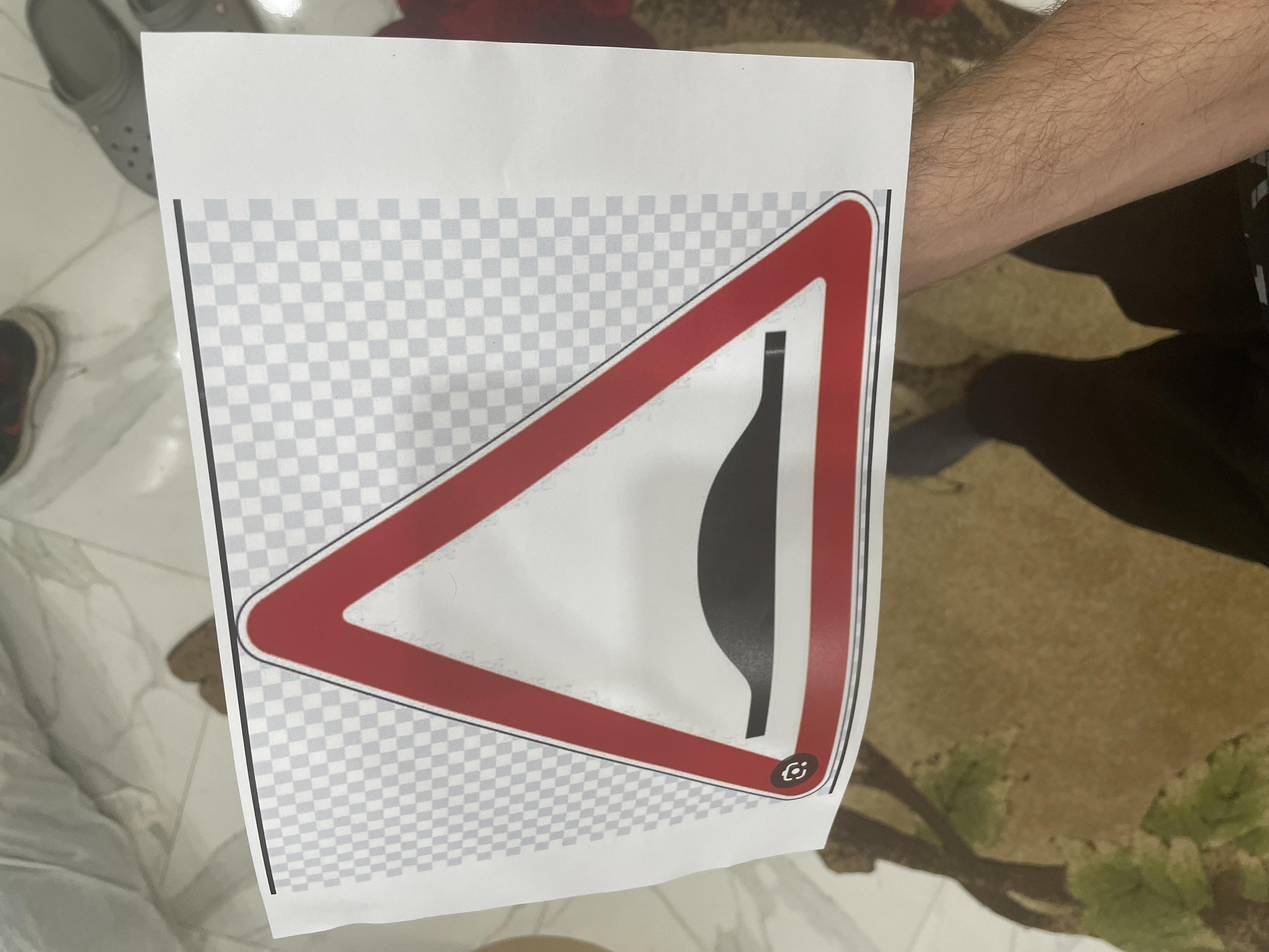Hump: (200, 173, 1029, 653)
